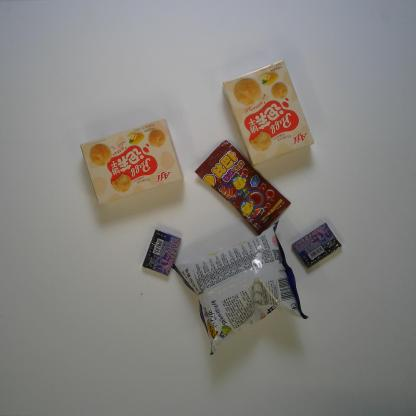Candy: (194, 139, 291, 236)
Dessert: (222, 62, 315, 166), (80, 117, 182, 205)
Gum: (292, 223, 342, 268), (142, 229, 181, 276)
Puffed Food: (172, 220, 309, 356)
